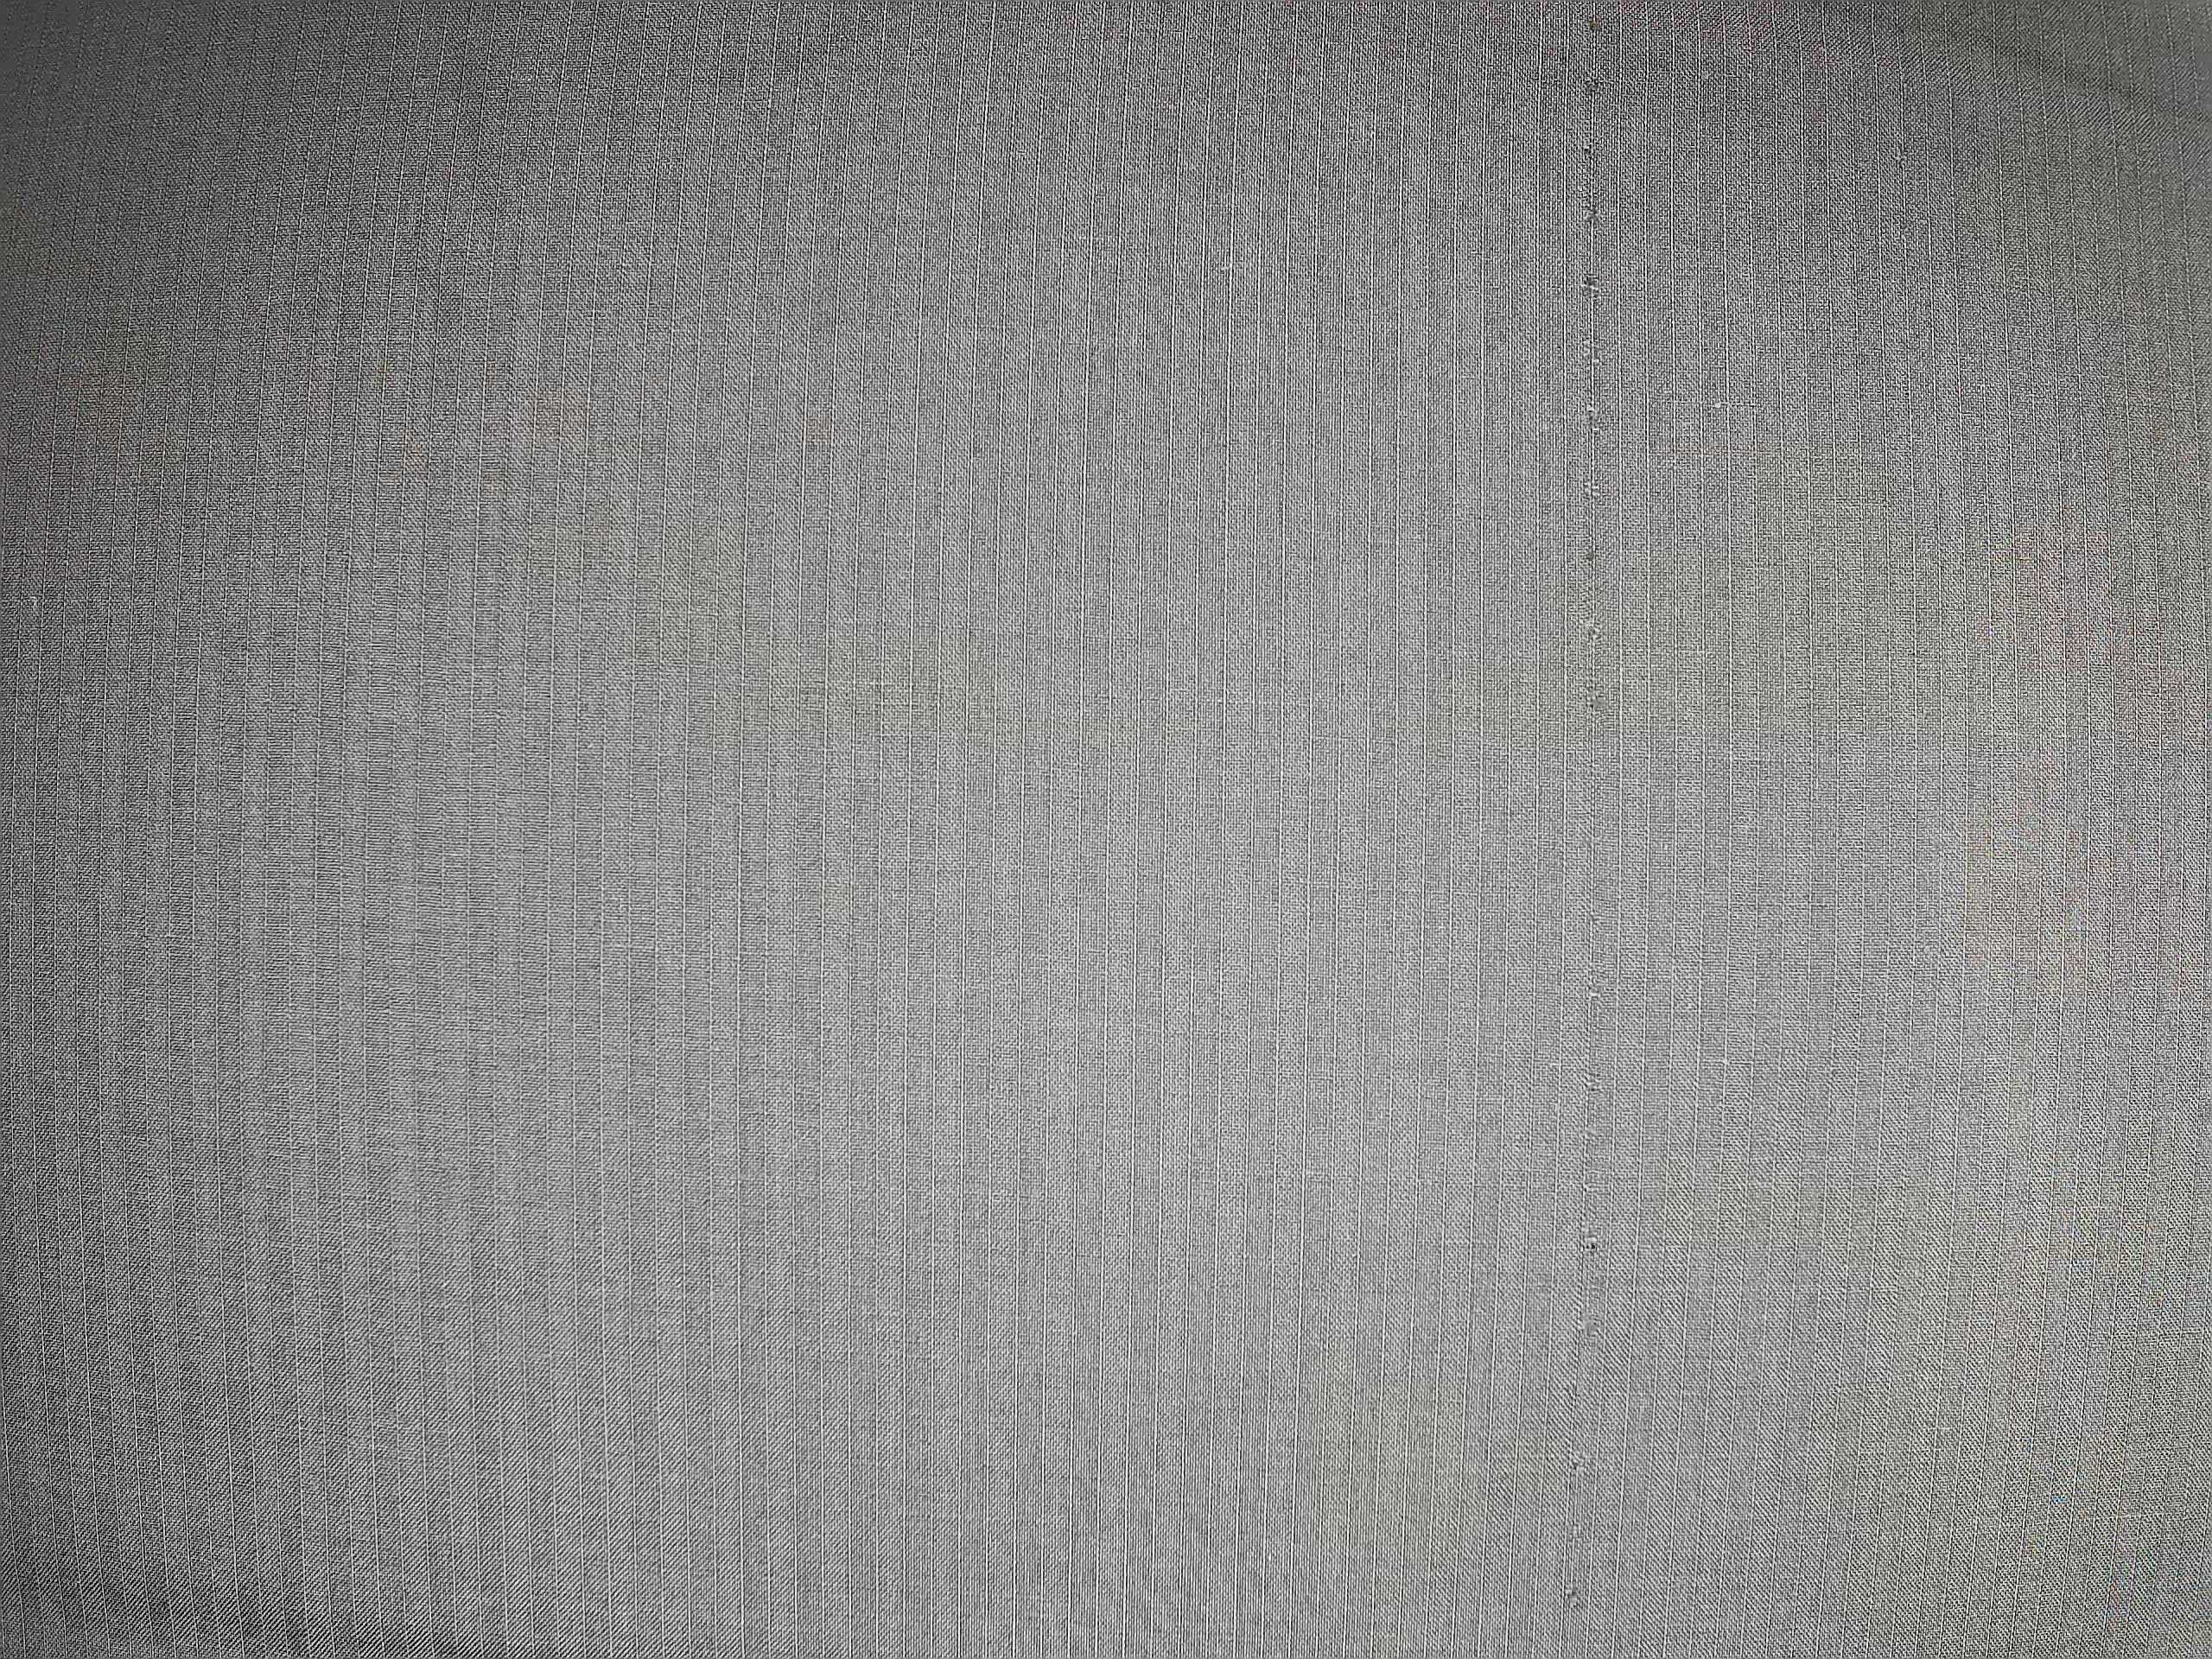puncture-hole: (1541, 16, 1634, 1631)
